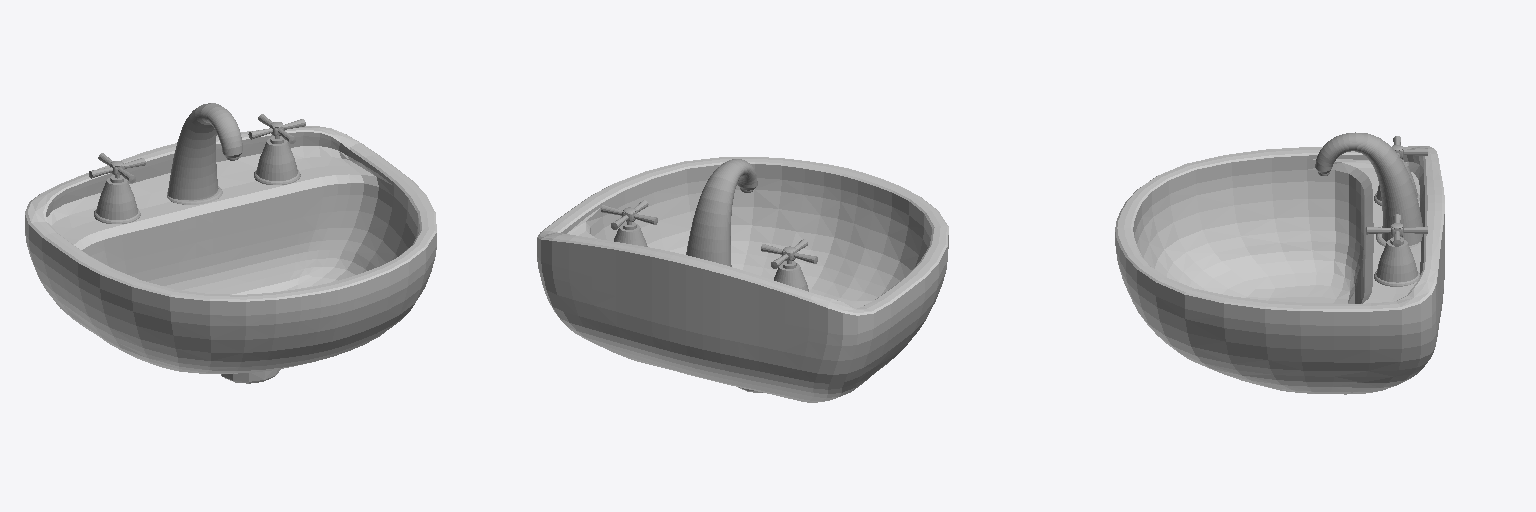
Rendered from small_lavatory.obj.
The picture shows the model from 3 angles: view 1: azimuth 30°, elevation 25°; view 2: azimuth 150°, elevation 25°; view 3: azimuth 270°, elevation 25°; orthographic projection.
Parts seen in each view (by area): view 1: Lavatory_Lavatorio, Tap_Canilla_toscana, Key02_Canilla1.001, Key01_Canilla1; view 2: Lavatory_Lavatorio, Tap_Canilla_toscana, Key01_Canilla1, Key02_Canilla1.001; view 3: Lavatory_Lavatorio, Tap_Canilla_toscana, Key02_Canilla1.001, Key01_Canilla1.
Part boxes in pixels (left/top/right/bottom): Lavatory_Lavatorio: left=25, top=126, right=436, bottom=383; Tap_Canilla_toscana: left=167, top=103, right=242, bottom=204; Key02_Canilla1.001: left=248, top=114, right=305, bottom=184; Key01_Canilla1: left=89, top=153, right=145, bottom=223; Lavatory_Lavatorio: left=537, top=157, right=948, bottom=402; Tap_Canilla_toscana: left=686, top=159, right=757, bottom=266; Key01_Canilla1: left=761, top=239, right=817, bottom=291; Key02_Canilla1.001: left=601, top=200, right=657, bottom=246; Lavatory_Lavatorio: left=1115, top=146, right=1444, bottom=394; Tap_Canilla_toscana: left=1315, top=132, right=1422, bottom=247; Key02_Canilla1.001: left=1366, top=214, right=1427, bottom=286; Key01_Canilla1: left=1374, top=136, right=1427, bottom=205.
Size of the model in its own units: 3.83 by 2.64 by 3.25.